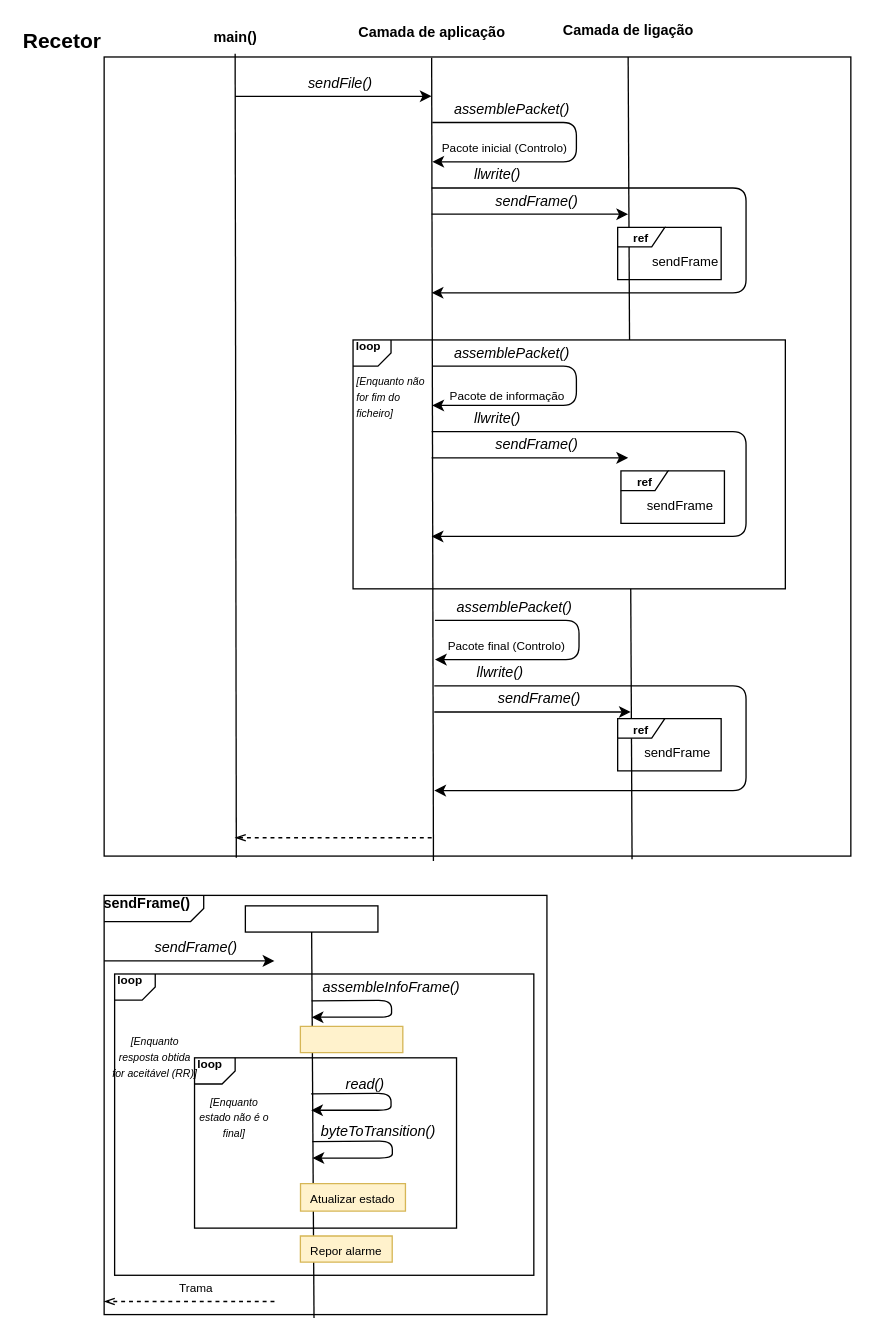
The diagram is 874 pixels wide and 1343 high, and some of its shapes have lost their labels. Here are the shapes that lost their labels. From the top down, the box of each, then its label:
(244, 905, 378, 932): :Camada de ligação
(299, 1025, 403, 1053): Ligar alarme
